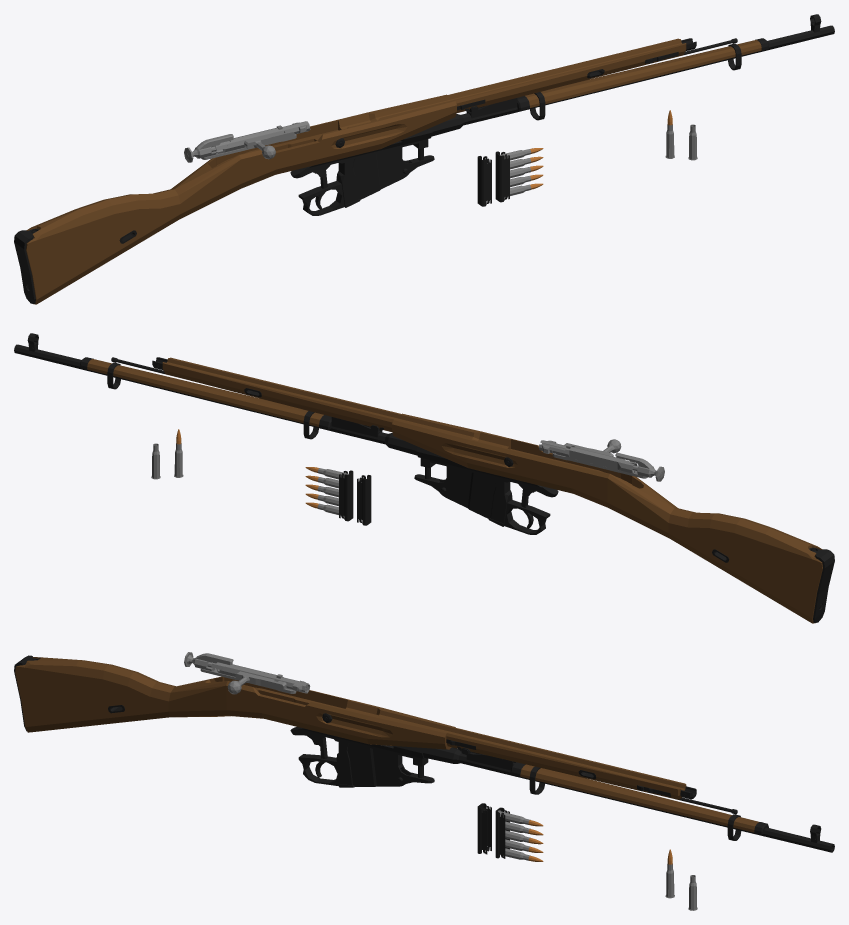
Rendered from low-poly_mosin_nagant_189130.glb.
The picture shows the model from 3 angles, top to bottom: view 1: azimuth 30°, elevation 25°; view 2: azimuth 150°, elevation 25°; view 3: azimuth 330°, elevation 25°; orthographic projection.
Parts seen in each view (by area): view 1: stock, mosin9130 receiver_3, mosin9130 handguard upper_8, mosin9130 barrel_2, mosin9130 clip_9, bolt_Object_15, bolt_Object_17, mosin9130 clip empty_10; view 2: stock, mosin9130 receiver_3, mosin9130 handguard upper_8, mosin9130 barrel_2, mosin9130 clip_9, bolt_Object_15, bolt_Object_17, mosin9130 clip empty_10; view 3: stock, mosin9130 receiver_3, mosin9130 handguard upper_8, mosin9130 barrel_2, mosin9130 clip_9, bolt_Object_15, bolt_Object_17, mosin9130 clip empty_10.
Part boxes in pixels (x1,y1,x2,y2): stock: [14, 38, 737, 304]; mosin9130 receiver_3: [290, 127, 434, 215]; mosin9130 handguard upper_8: [517, 38, 768, 120]; mosin9130 barrel_2: [431, 14, 834, 136]; mosin9130 clip_9: [495, 148, 543, 202]; bolt_Object_15: [211, 121, 310, 159]; bolt_Object_17: [184, 125, 296, 162]; mosin9130 clip empty_10: [477, 156, 491, 206]; stock: [111, 357, 834, 623]; mosin9130 receiver_3: [414, 446, 558, 534]; mosin9130 handguard upper_8: [80, 357, 331, 439]; mosin9130 barrel_2: [14, 333, 417, 455]; mosin9130 clip_9: [305, 467, 353, 521]; bolt_Object_15: [538, 439, 637, 473]; bolt_Object_17: [552, 444, 664, 481]; mosin9130 clip empty_10: [357, 475, 371, 525]; stock: [14, 655, 737, 814]; mosin9130 receiver_3: [290, 727, 434, 787]; mosin9130 handguard upper_8: [510, 762, 768, 840]; mosin9130 barrel_2: [422, 746, 834, 852]; mosin9130 clip_9: [495, 807, 543, 861]; bolt_Object_15: [211, 662, 310, 694]; bolt_Object_17: [184, 652, 296, 693]; mosin9130 clip empty_10: [477, 803, 491, 854].
Bounding box in the file's own units: 13.82 × 2.22 × 0.8322.
